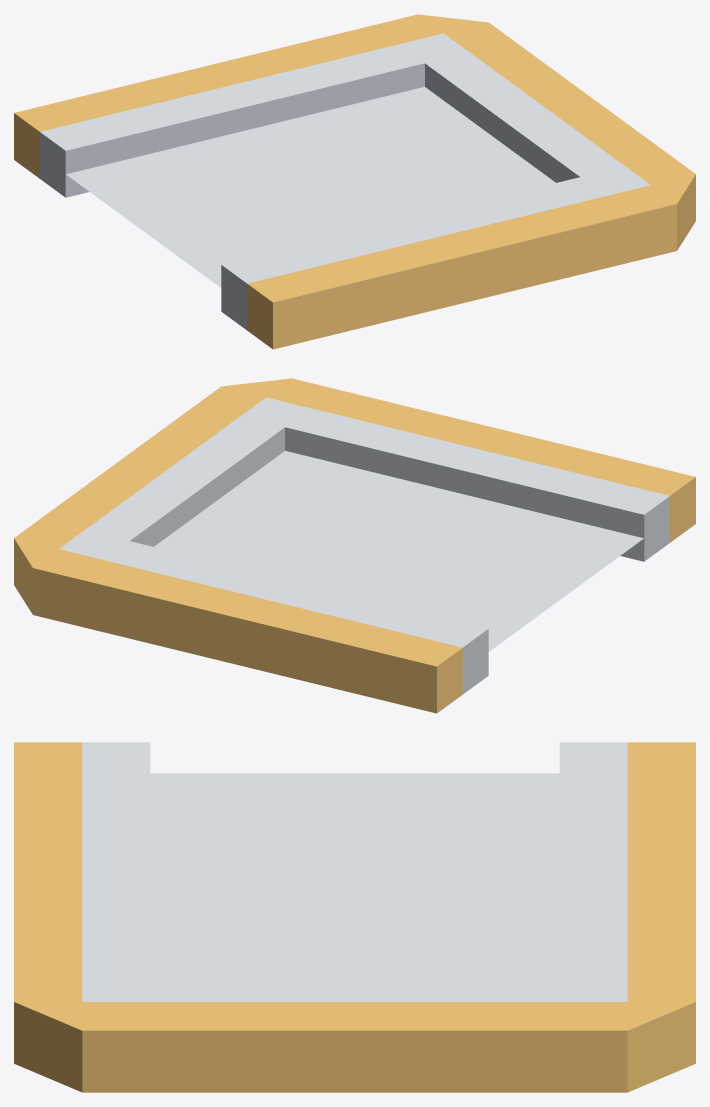
The model's file is platform_end.glb.
3 renders of one model, top to bottom at view 1: azimuth 30°, elevation 25°; view 2: azimuth 150°, elevation 25°; view 3: azimuth 270°, elevation 25°, orthographic. The views are drawn at different scales.
Parts seen in each view (by area): view 1: platform_end; view 2: platform_end; view 3: platform_end.
Boxes of the visible parts, x1,y1,x2,y2 form: platform_end: [14, 14, 695, 349]; platform_end: [14, 378, 695, 713]; platform_end: [14, 742, 695, 1092].
Bounding box in the file's own units: 1 × 0.1 × 1.
1 material, 1 textured.
